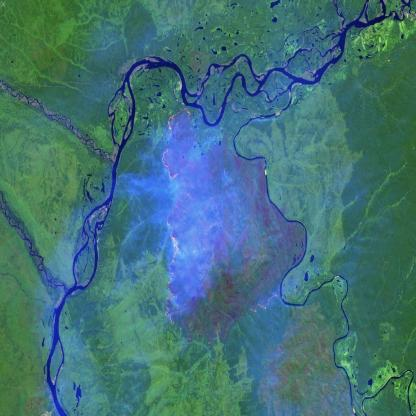fire: (151, 103, 197, 331)
